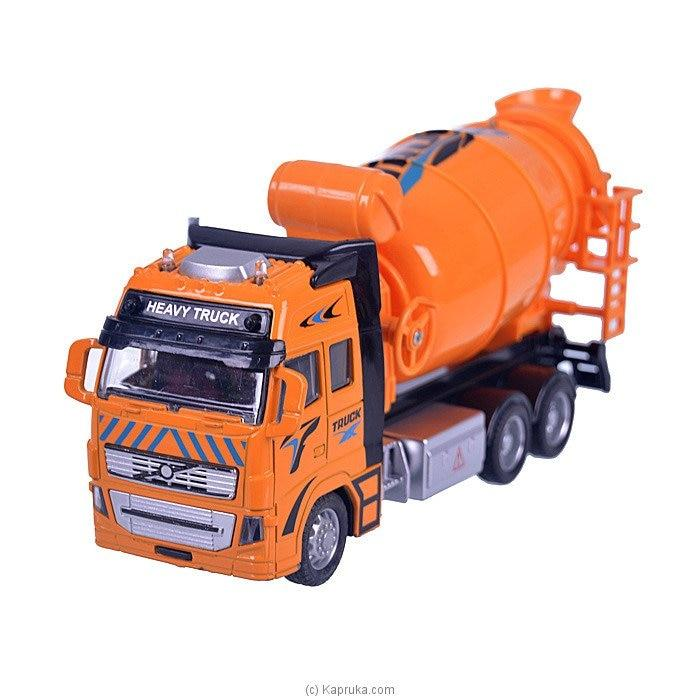truck: (61, 85, 639, 587)
